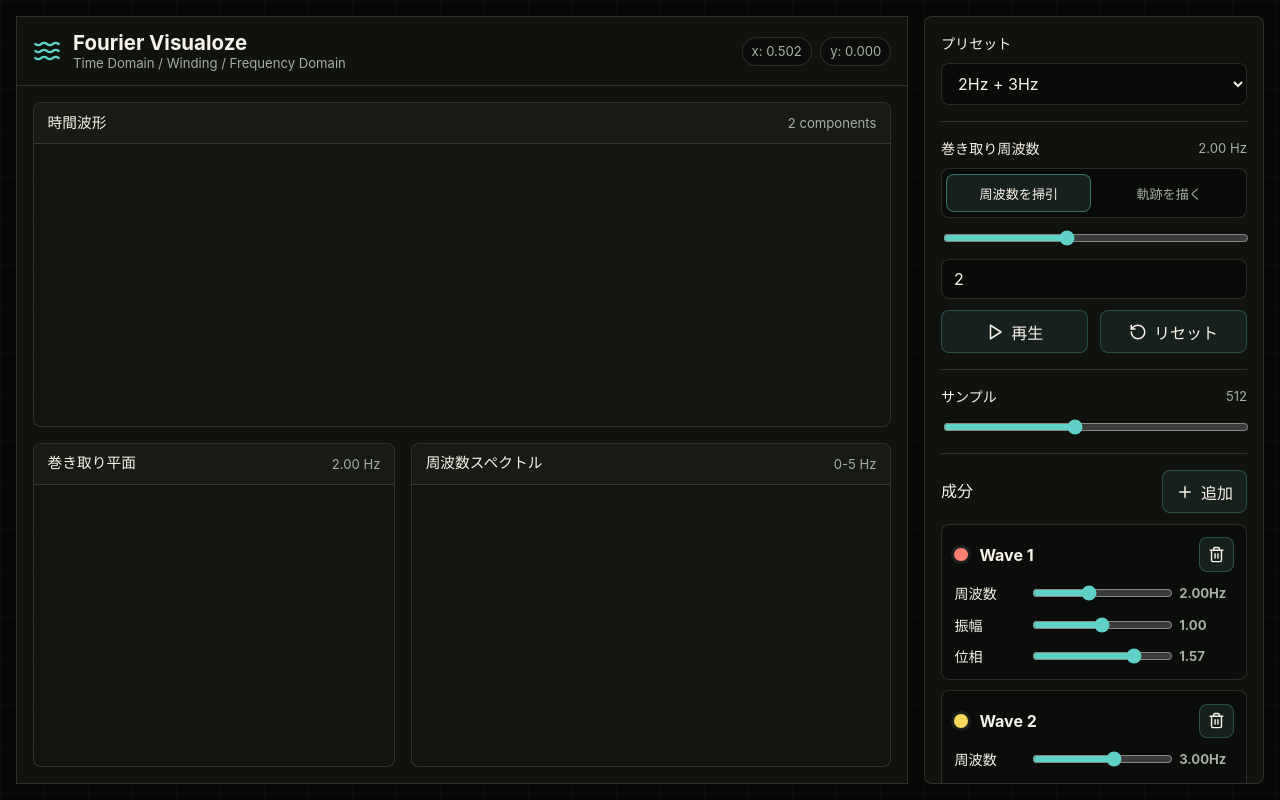
Scenario: App › updates sample count and toggles playback controls
Set the slider labelled "サンプル" to "1024" at (1241, 427), box [943,419,1249,435]
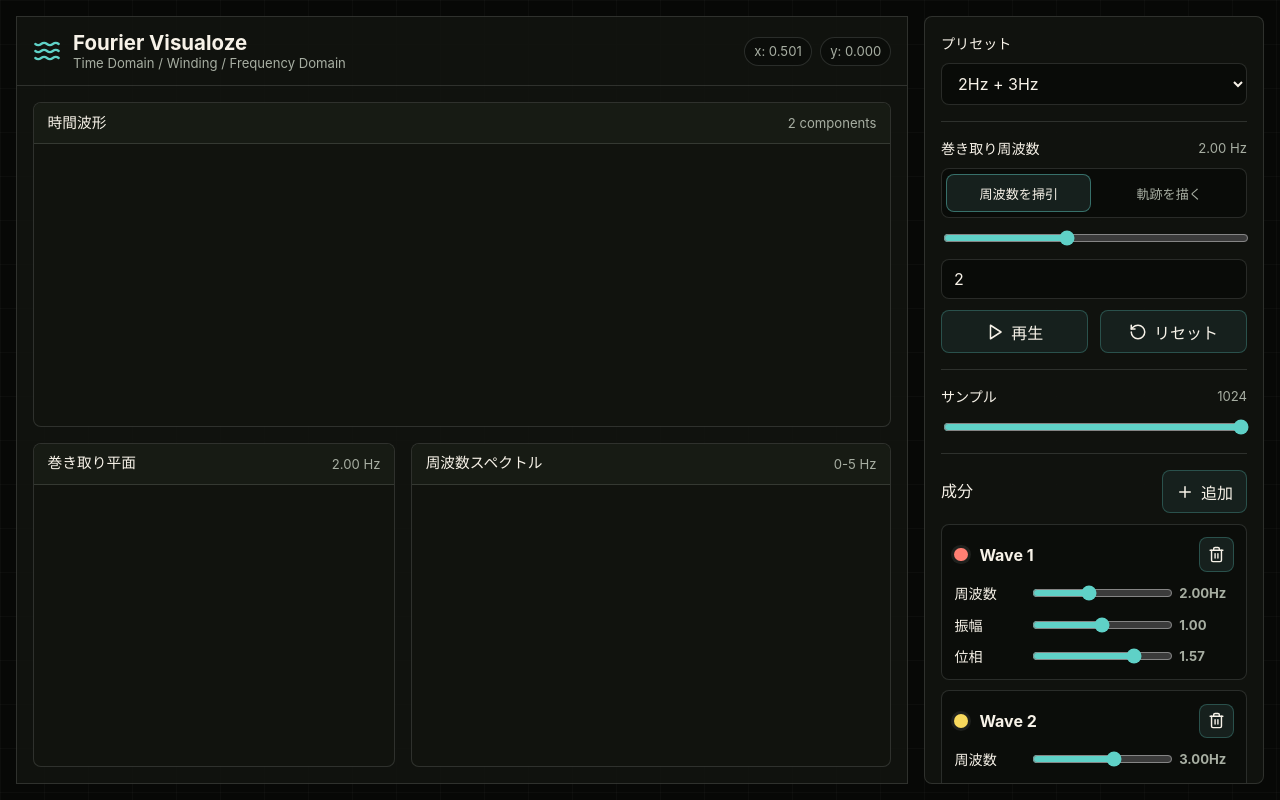
expect the text "1024" is shown: met, box [1217,388,1247,404]
Click the button "再生" at (1015, 332), box [941,310,1088,354]
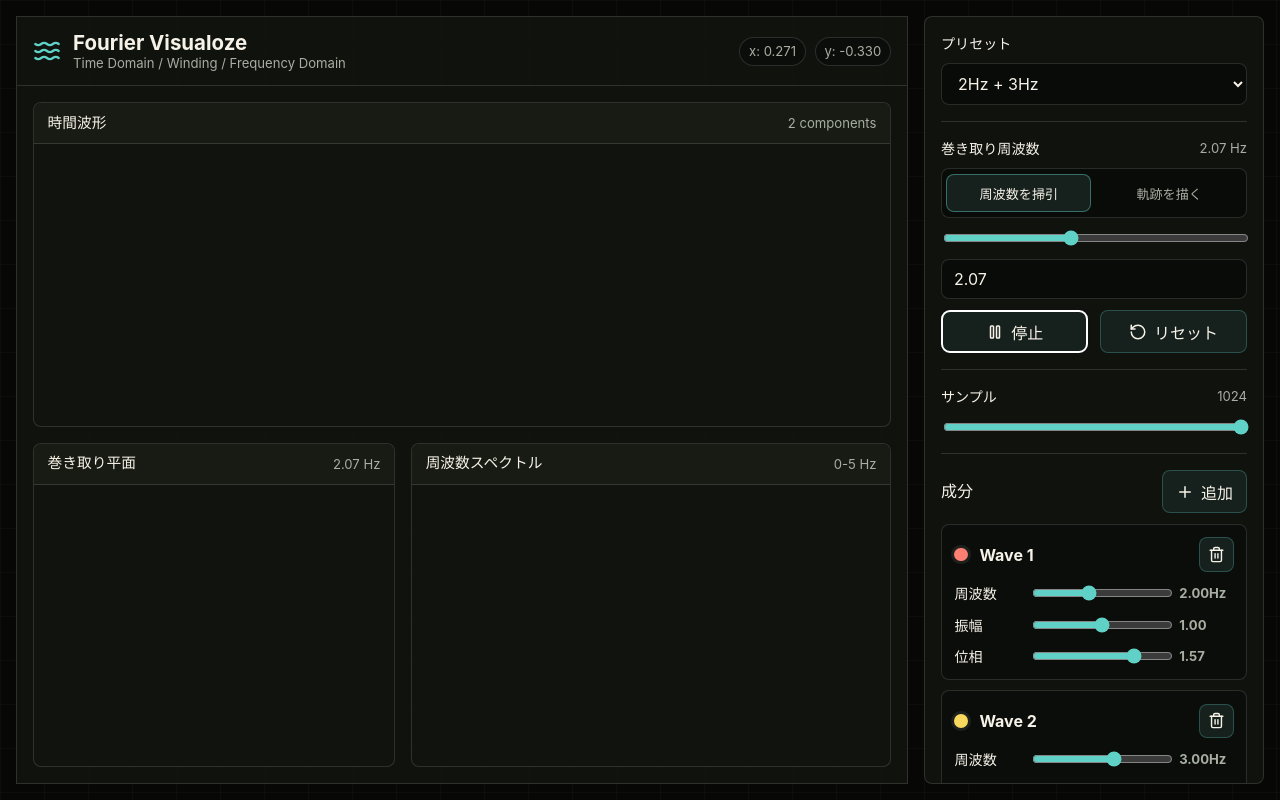
expect the button "停止" is shown: met
Click the button "停止" at (1015, 332), box [941,310,1088,354]
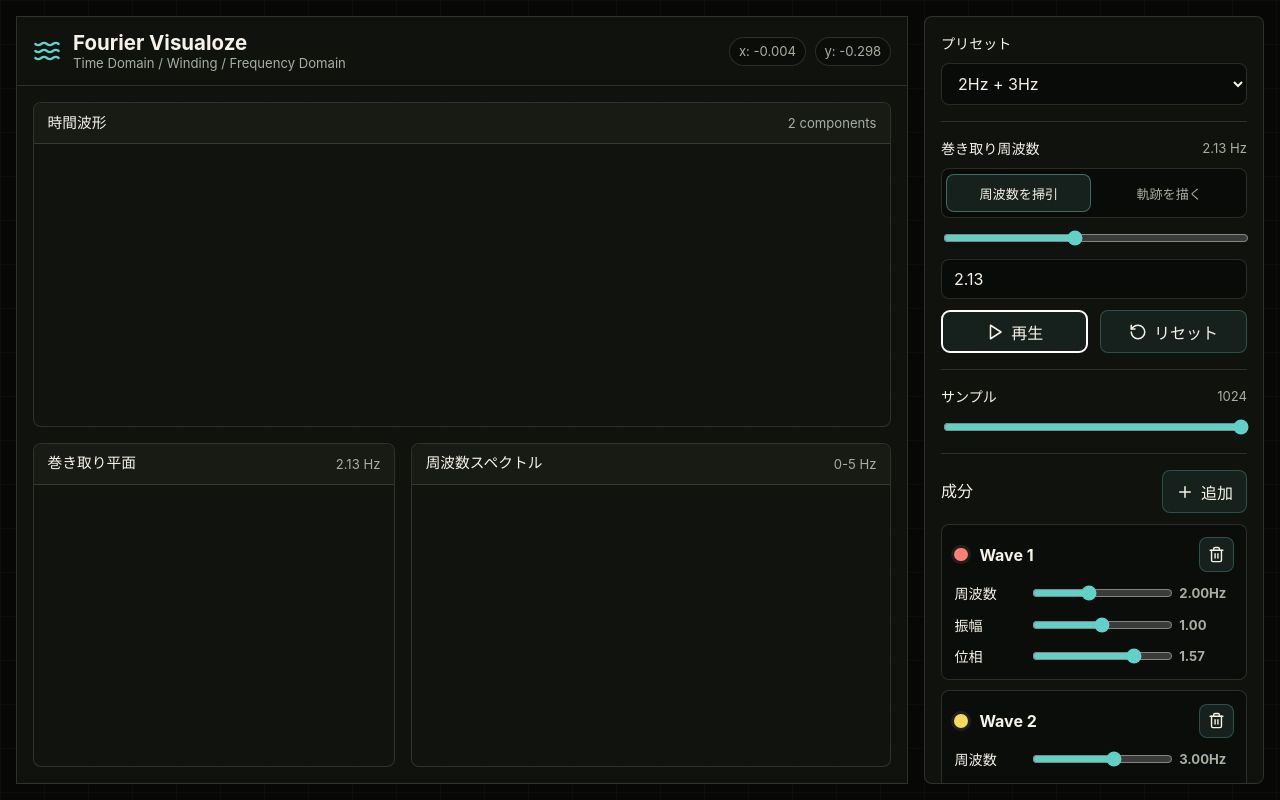
expect the button "再生" is shown: met, box [941,310,1088,354]
